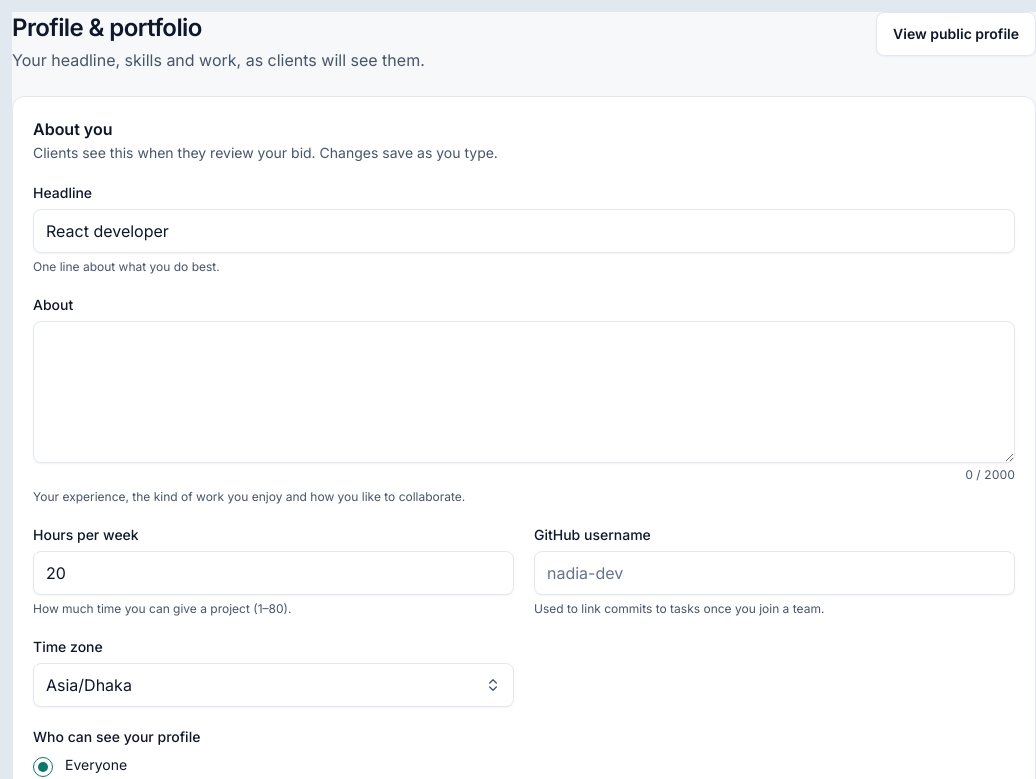
Scenario: ProfilePage › shows the server's field error and Not saved
Type "nadia" into the field labelled "GitHub username".
click(774, 573); type("nadia")  # box top-left (534, 551), bottom-right (1015, 595)
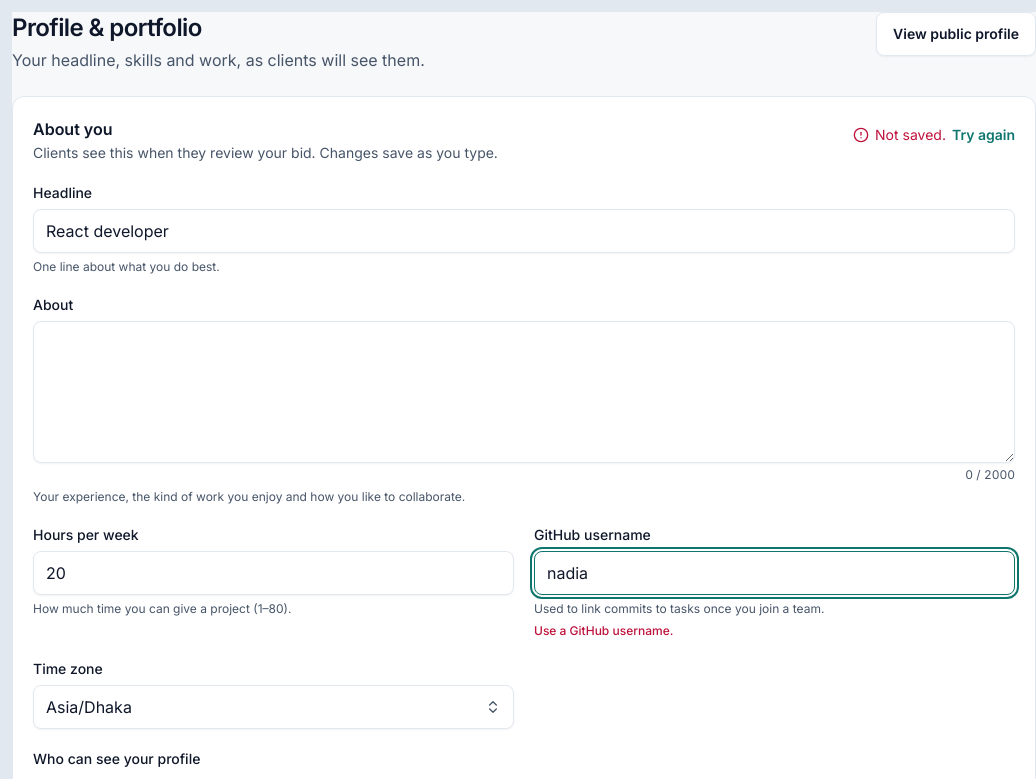
Expected: the text "Use a GitHub username." is shown, top-left (534, 623), bottom-right (673, 638)
Expected: the text "Not saved." is shown, top-left (875, 125), bottom-right (946, 145)
